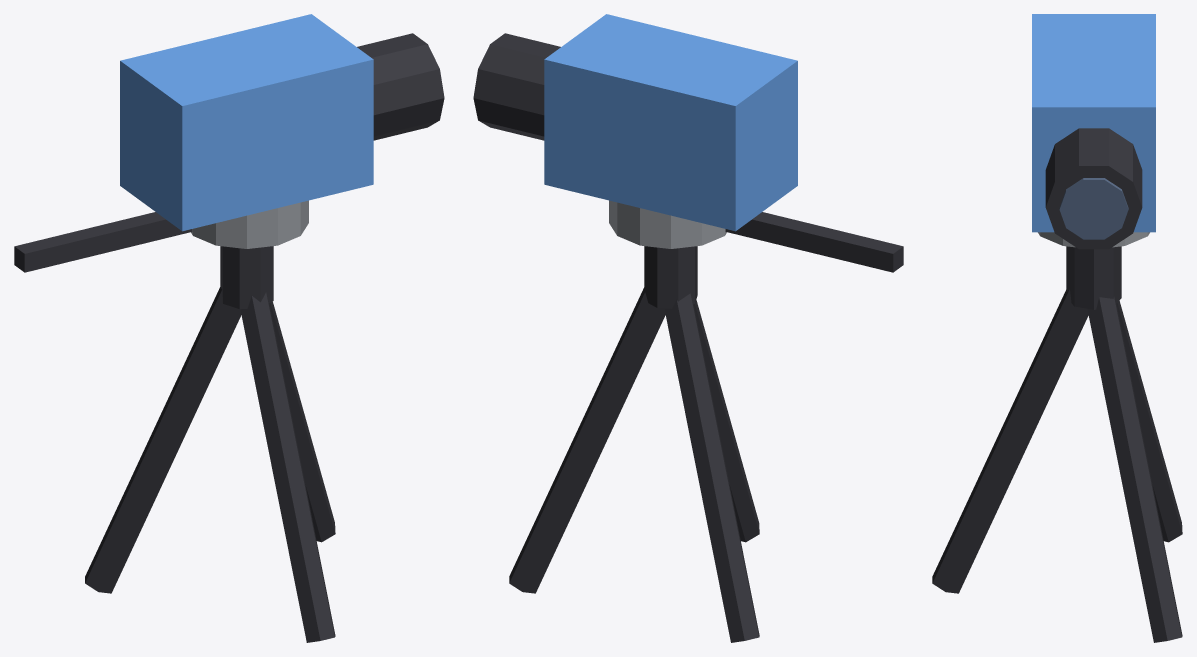
Rendered from SM_Cam_Pan.fbx.
3 renders of one model, left to right at view 1: azimuth 30°, elevation 25°; view 2: azimuth 150°, elevation 25°; view 3: azimuth 270°, elevation 25°, orthographic.
Visible parts, largest first — view 1: SM_Cam_Pan; view 2: SM_Cam_Pan; view 3: SM_Cam_Pan.
Boxes of the visible parts, x1=… form: SM_Cam_Pan: x1=14, y1=14, x2=444, y2=642; SM_Cam_Pan: x1=473, y1=14, x2=903, y2=642; SM_Cam_Pan: x1=932, y1=14, x2=1182, y2=642.
Size of the model in its own units: 0.3385 by 0.4234 by 0.1813.
